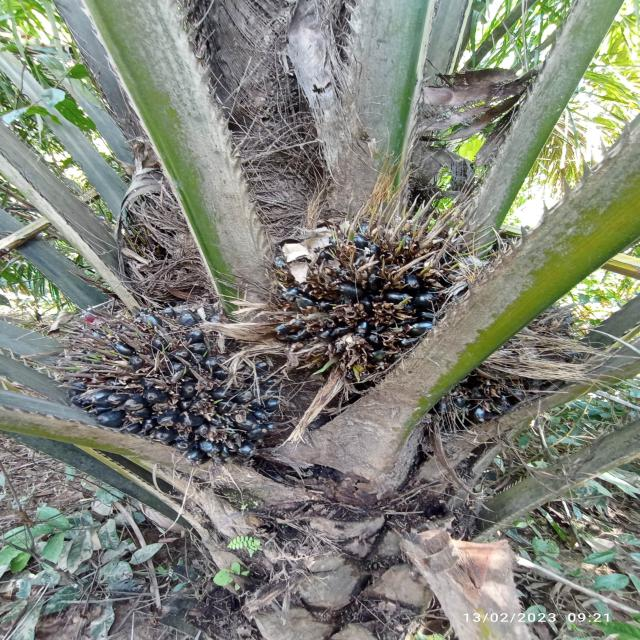fraksi 00: (227, 155, 510, 392), (0, 268, 337, 458)
